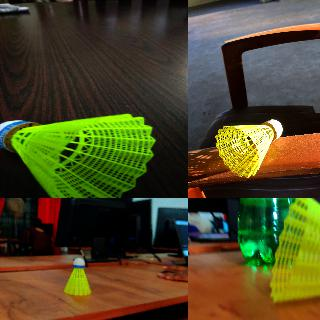shuttlecock: (0, 114, 155, 198), (270, 198, 319, 305), (215, 119, 281, 177), (63, 257, 93, 295)
